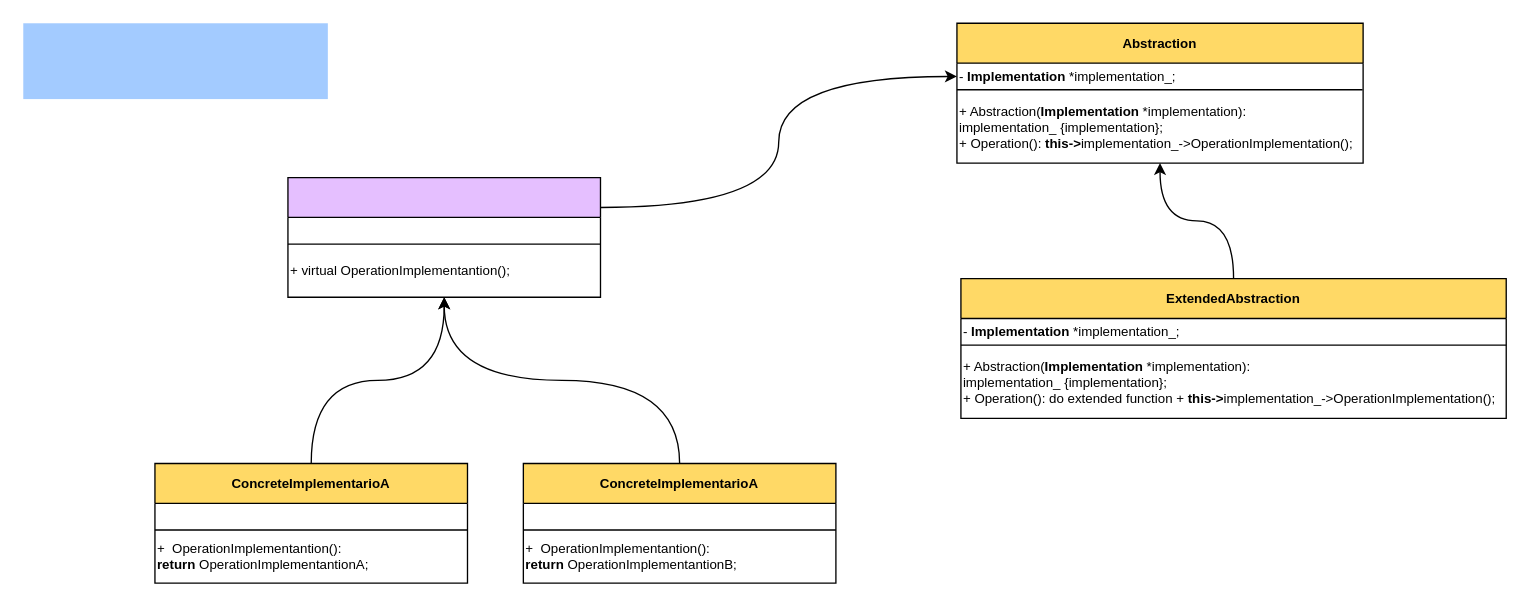
The diagram is 1530 pixels wide and 606 high, and some of its shapes have lost their labels. Each missing label, with the box of its shape:
ClientCode(const Abstraction &abstraction): abstraction.Operation();: (23, 23, 327, 98)
Implementation(Interface): (287, 176, 600, 297)
